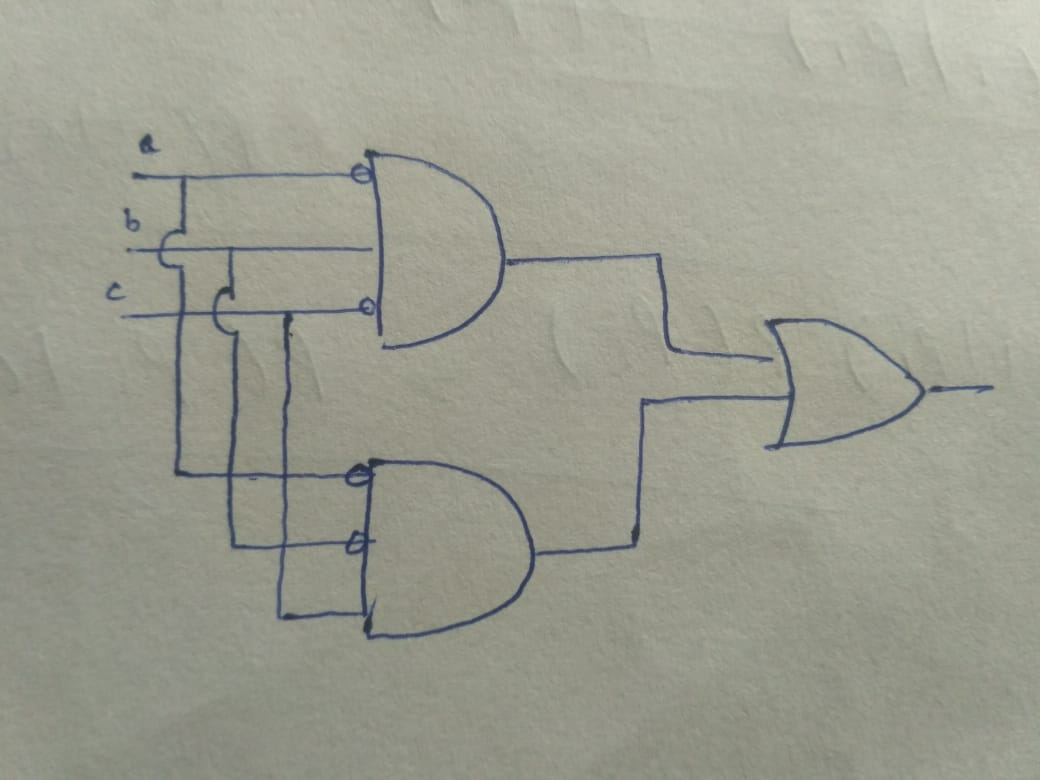and: (331, 439, 560, 687), (325, 131, 529, 358)
or: (727, 280, 950, 471)
